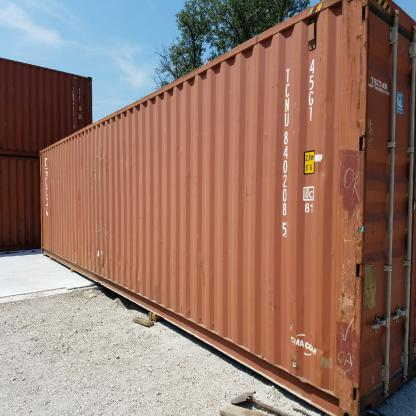Damage: (338, 144, 365, 412), (92, 218, 112, 274), (194, 256, 214, 288), (94, 144, 110, 168)
